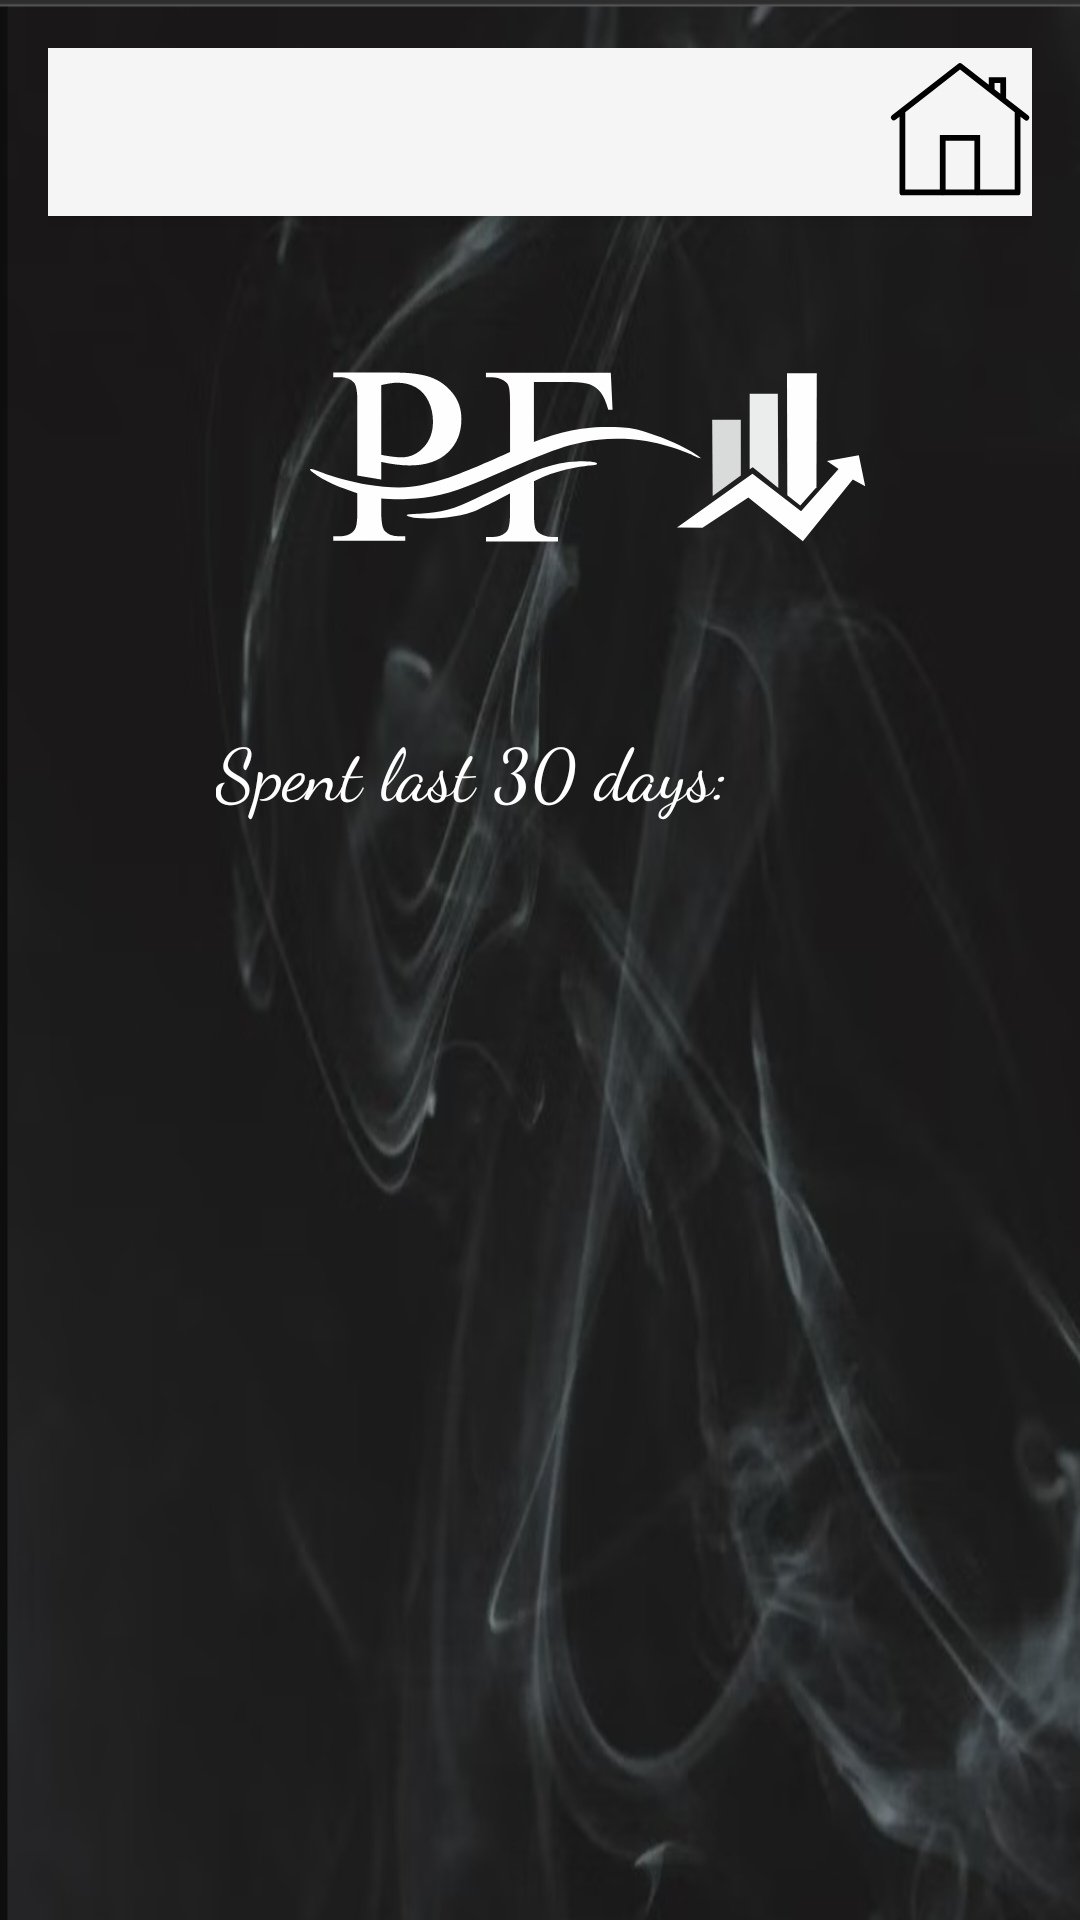

Icons on this 1080px×1920px Android screen, each with its box as [x1,y1,x2,y2]:
Go to home activity: [890,63,1030,196]
